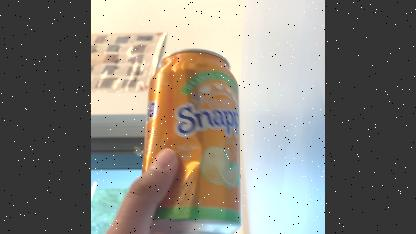Can: (143, 41, 250, 234)
